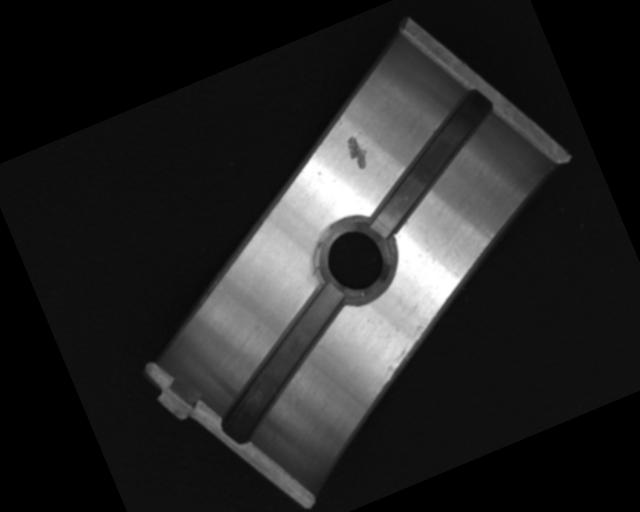bruise: (341, 131, 373, 172)
gap: (189, 279, 378, 446), (338, 84, 521, 239)
hole: (306, 206, 402, 309)
